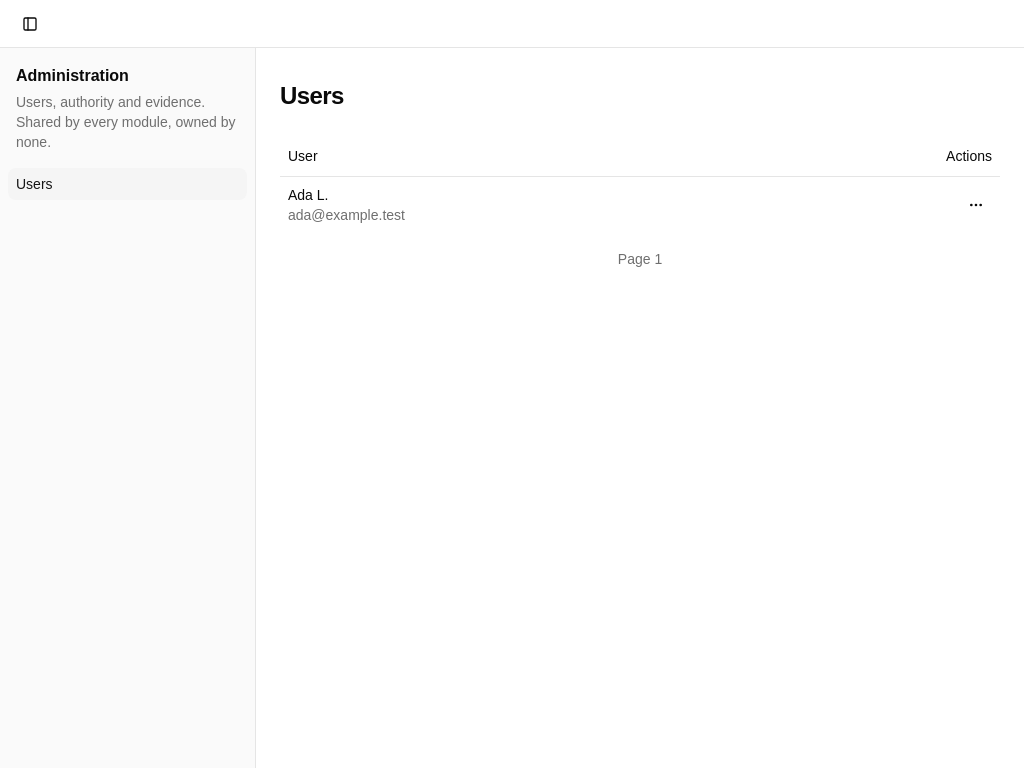
it: saving › announces, refreshes the list, and closes
Expected: the table named "Users" is shown, [280, 136, 1000, 232]
Click the button named "Actions for Ada L." at x=976, y=204, box [960, 188, 992, 220]
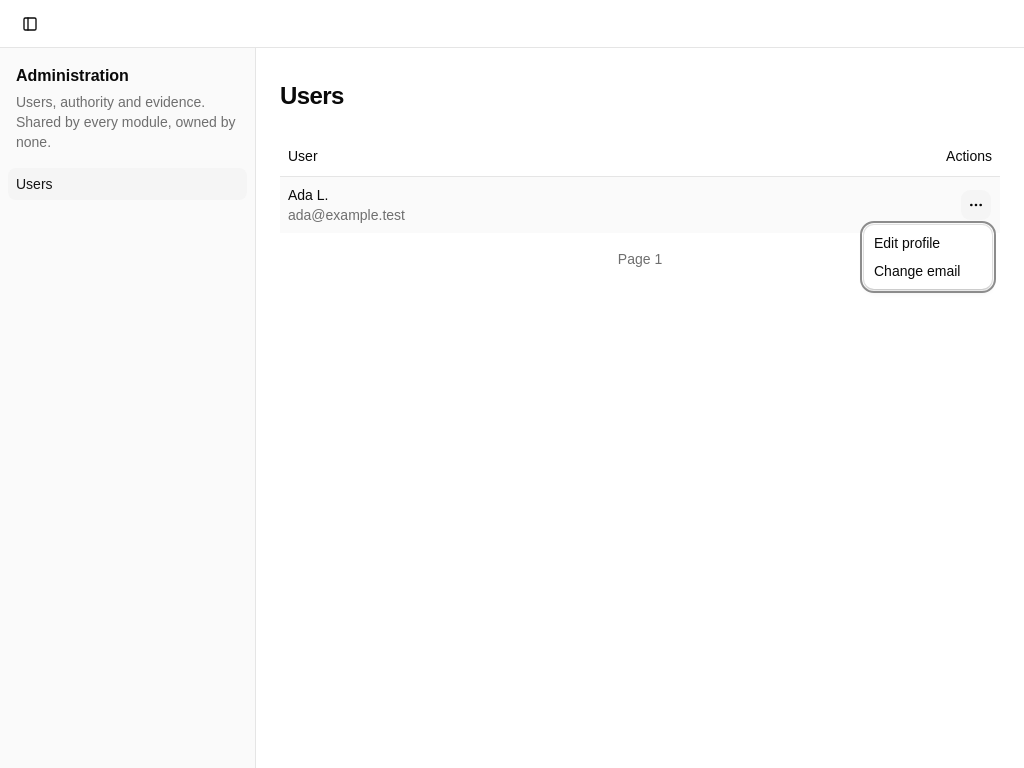
Click the menu item "Change email" at x=917, y=271, box [874, 263, 960, 279]
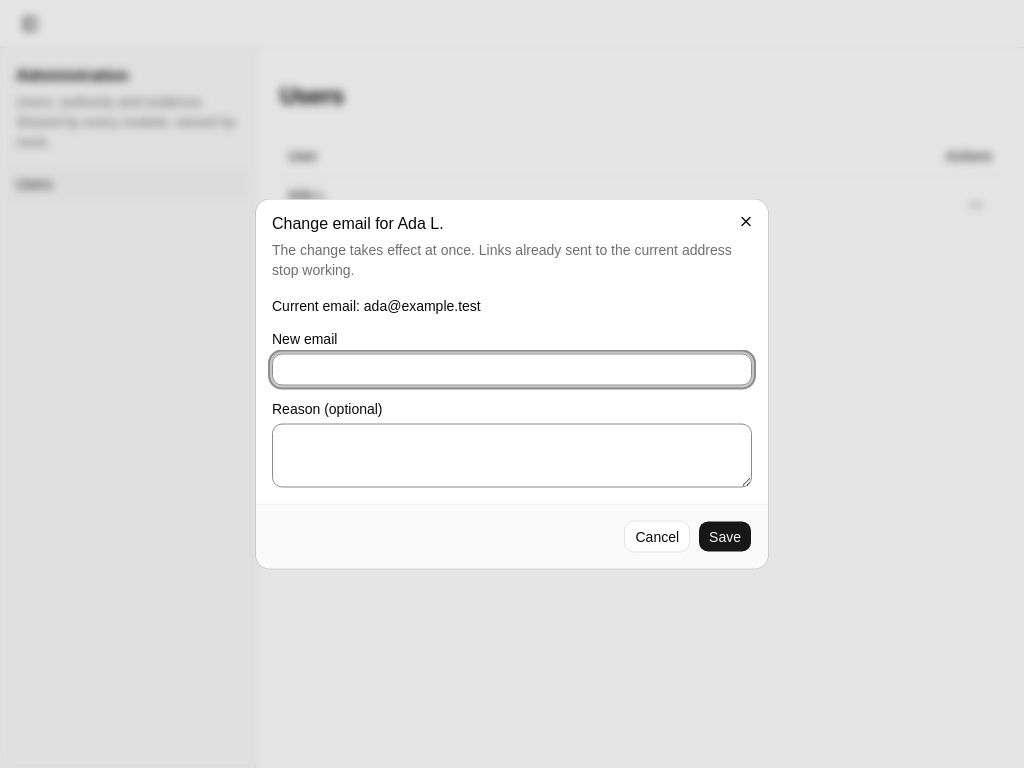
Type keys "ada.king@example.test"
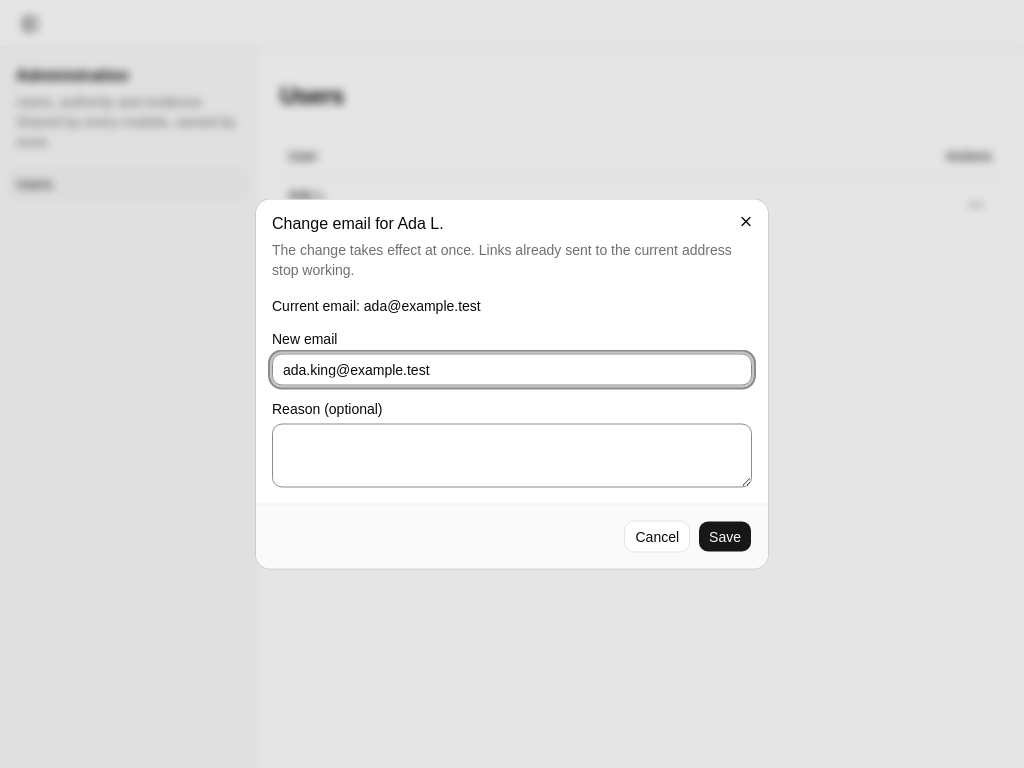
Click the button "Save" at x=725, y=536, box [698, 520, 752, 552]
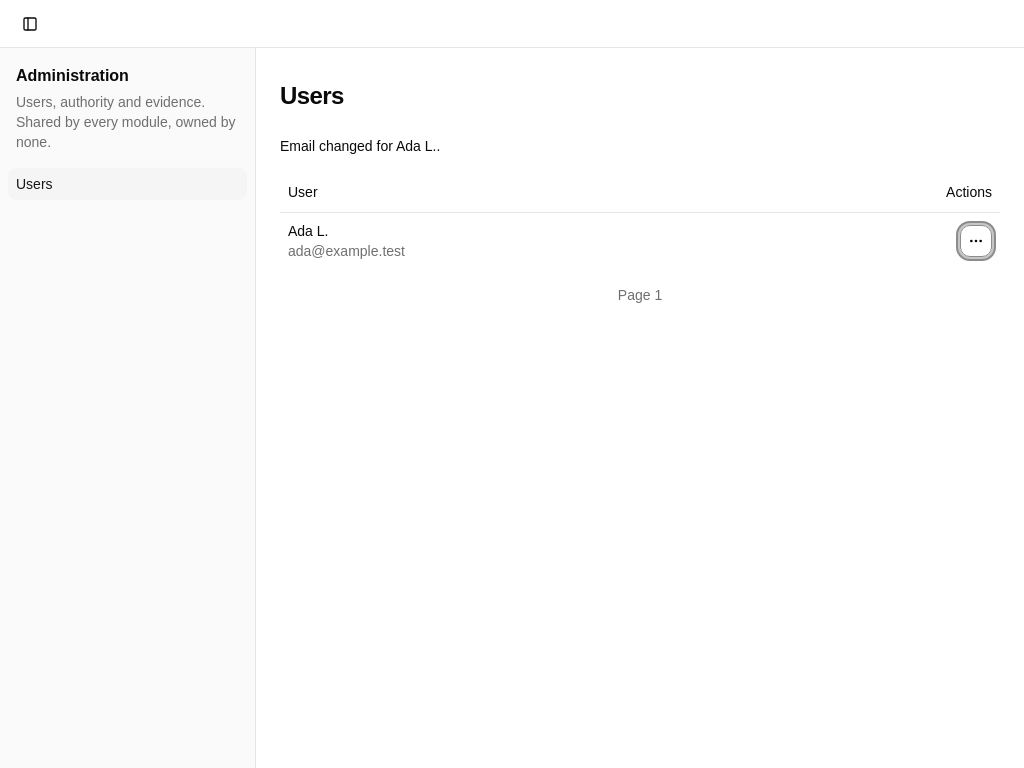
Expected: the dialog is gone
Expected: the message shows "Email changed for Ada L.", [280, 138, 440, 154]
